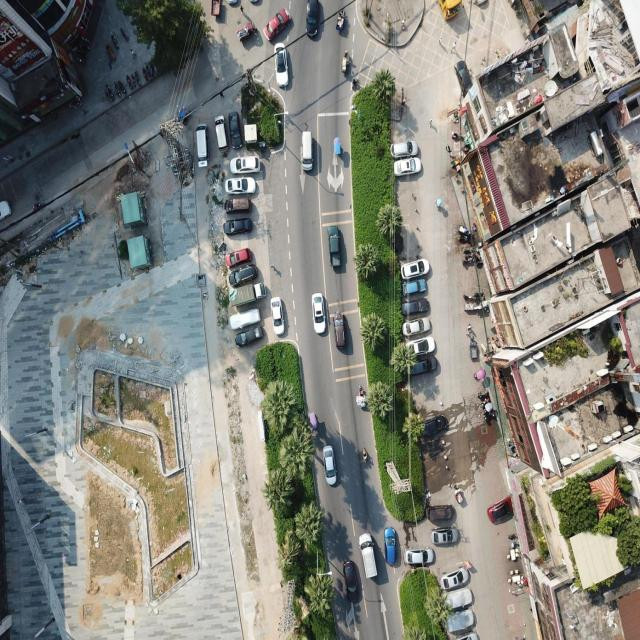p3rson: (400, 18, 408, 31), (128, 48, 138, 58), (450, 40, 456, 53), (338, 8, 345, 17), (343, 48, 348, 59), (218, 89, 224, 98), (480, 55, 486, 64), (358, 386, 363, 396), (240, 4, 244, 14), (428, 118, 433, 126), (270, 265, 276, 271), (439, 36, 442, 45)
